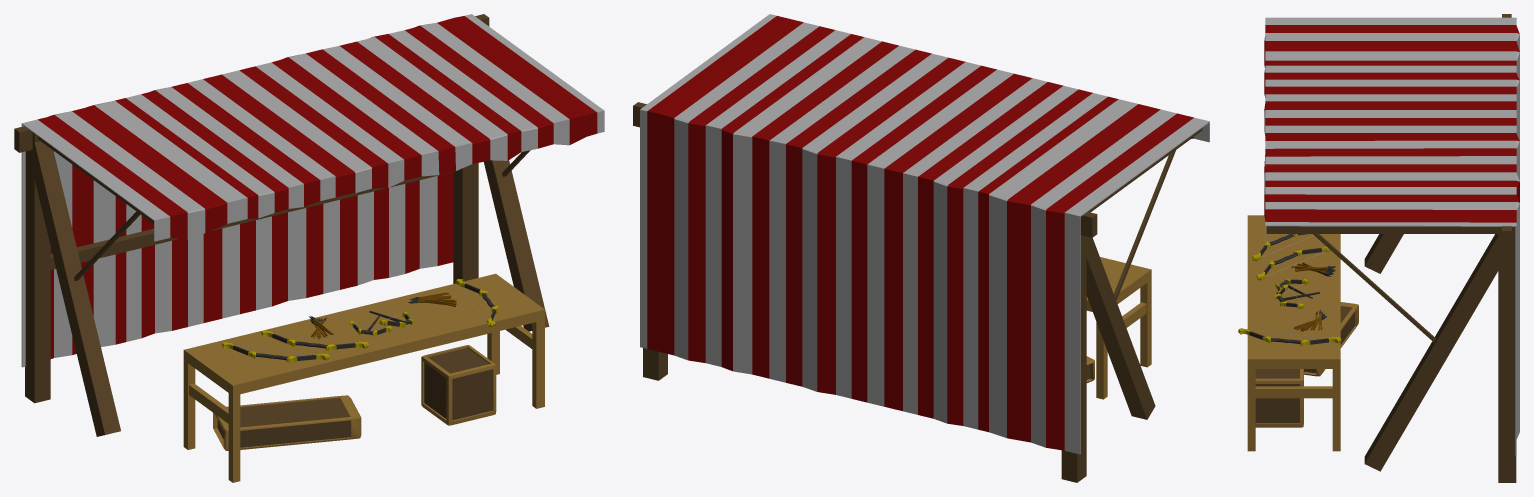
The model's file is LargeBowStand.fbx.
3 renders of one model, left to right at view 1: azimuth 30°, elevation 25°; view 2: azimuth 150°, elevation 25°; view 3: azimuth 270°, elevation 25°, orthographic. The views are drawn at different scales.
Visible parts, largest first — view 1: pCube135; view 2: pCube135; view 3: pCube135.
Boxes of the visible parts, <box> form: pCube135: <box>14,14,604,482</box>; pCube135: <box>633,14,1209,482</box>; pCube135: <box>1238,14,1519,482</box>.
Size of the model in its own units: 6.52 by 3.64 by 3.58.
